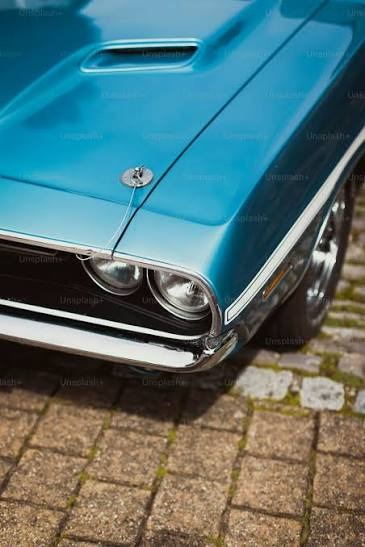car: (1, 1, 365, 387)
